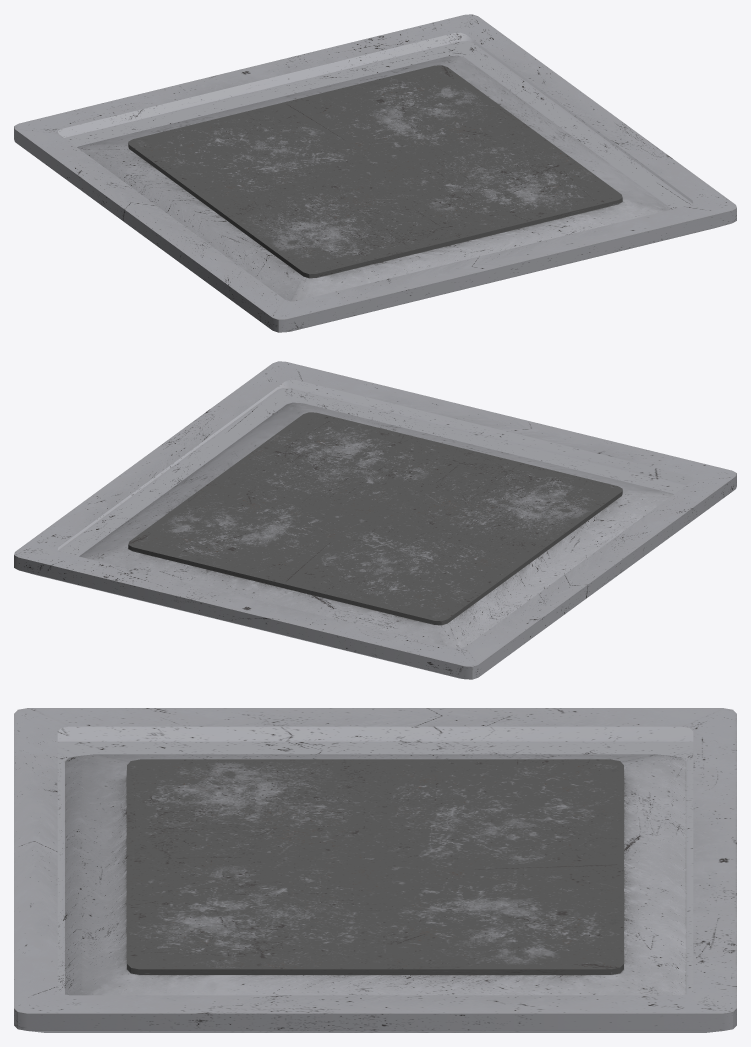
Rendered from ceiling_vent_01.glb.
3 renders of one model, top to bottom at view 1: azimuth 30°, elevation 25°; view 2: azimuth 150°, elevation 25°; view 3: azimuth 270°, elevation 25°, orthographic. The views are drawn at different scales.
Visible parts, largest first — view 1: CeilingVent01; view 2: CeilingVent01; view 3: CeilingVent01.
Boxes of the visible parts, x1,y1,x2,y2 form: CeilingVent01: (14,14,736,332); CeilingVent01: (14,361,736,679); CeilingVent01: (14,708,736,1032).
Size of the model in its own units: 0.7275 by 0.0293 by 0.7275.
1 material, 1 textured.
